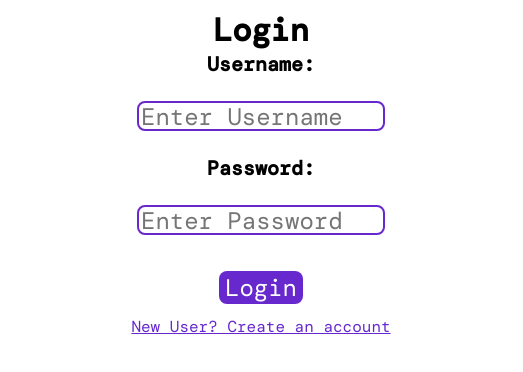
Test: LoginPage › shows error when username is empty
The width and height of the screenshot is (523, 372).
// Only fill password
Type "password123" into the password field with placeholder "Enter Password".
click(261, 220); type("password123")  # box [137,205,385,235]
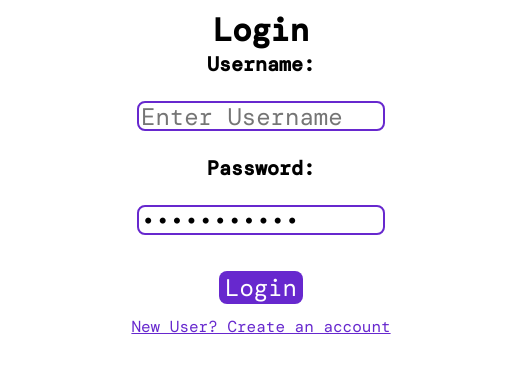
// Click login
Click the button "Login".
click(261, 288)  # box [219,271,303,304]
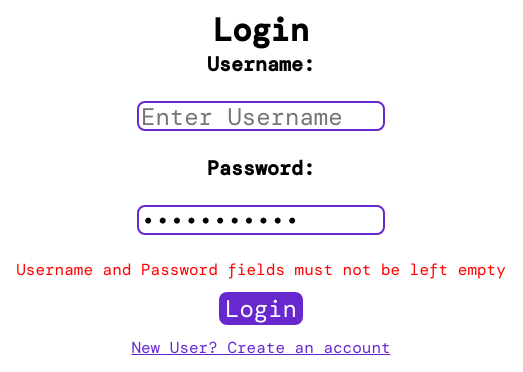
Expected: the text "Username and Password fields must not be left empty" is shown, [16,259,506,280]
